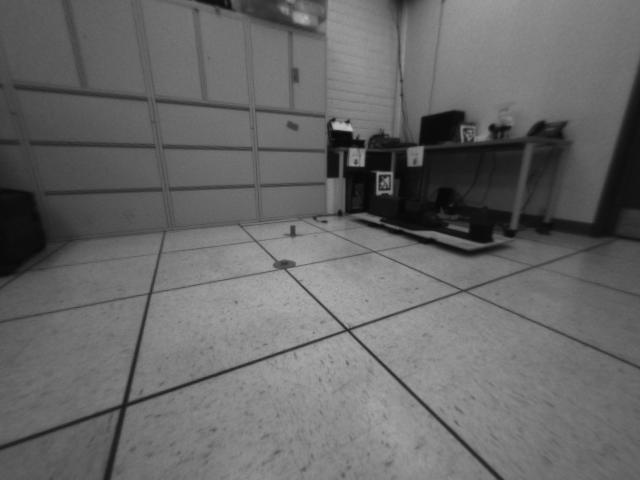X: (283, 223, 303, 240)
